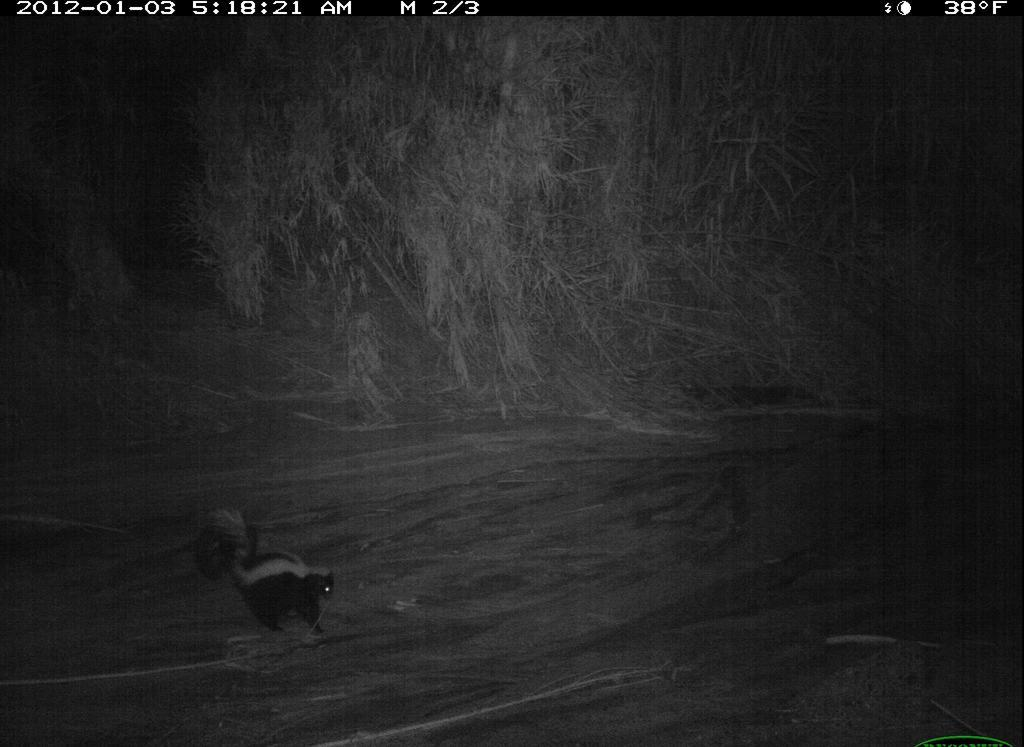skunk: (184, 497, 342, 646)
